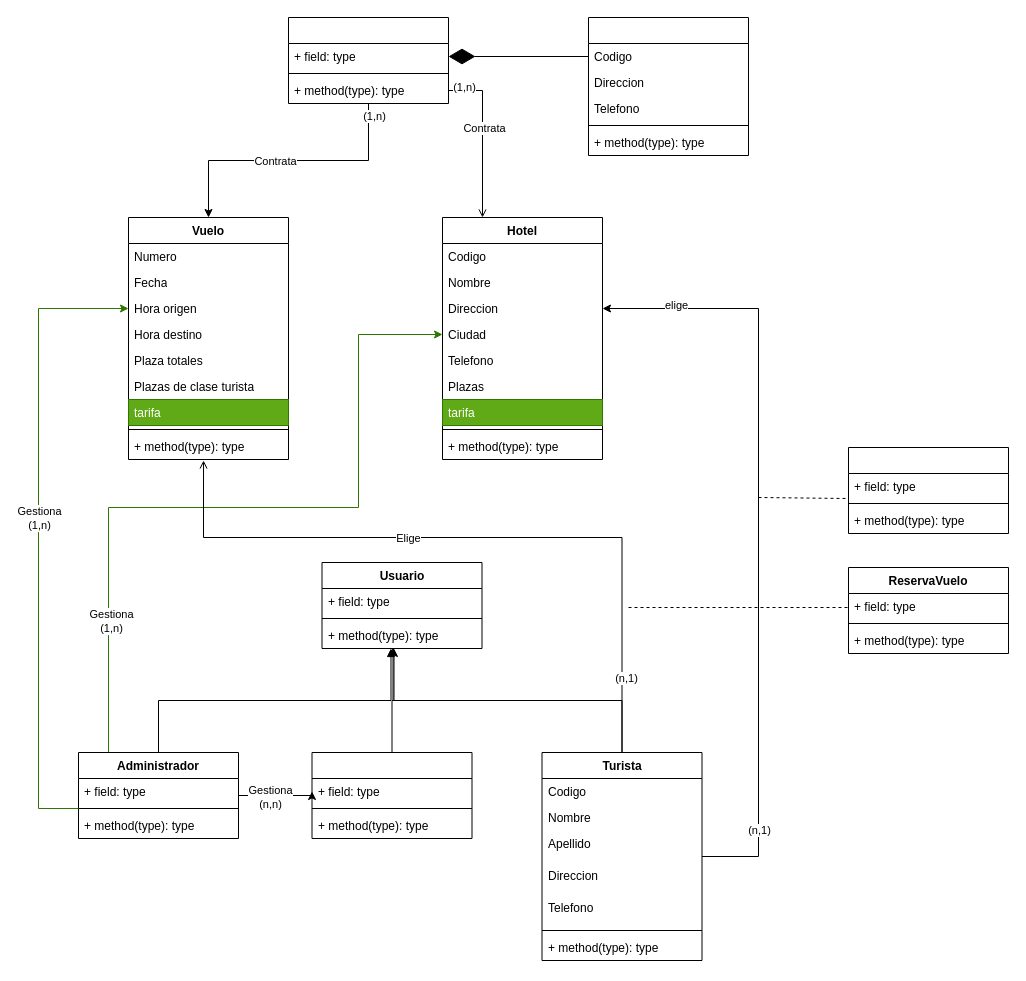
Image size: 1026x981. Some labels were removed from this diagram. Here are the shapes that lost their labels. From the top down, the box of each, then its label:
(288, 16, 448, 104): CadenaAgencias
(588, 16, 748, 156): Sucursal
(848, 446, 1008, 534): ReservaHotel
(311, 752, 472, 838): Empleado
